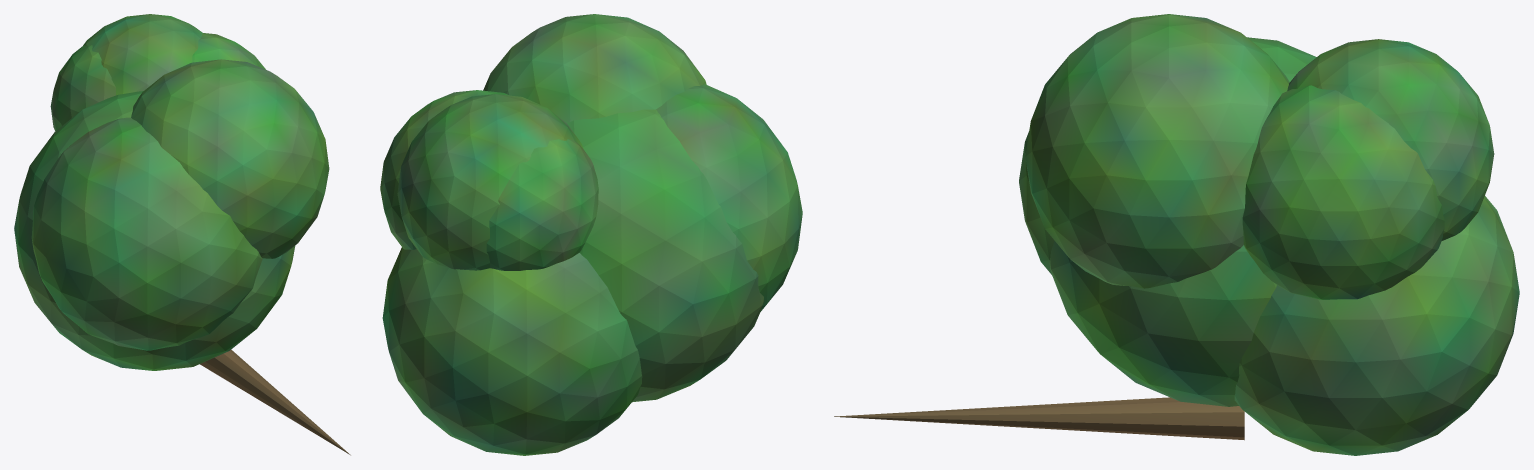
File: tree_4.glb
3 renders of one model, left to right at view 1: azimuth 30°, elevation 25°; view 2: azimuth 150°, elevation 25°; view 3: azimuth 270°, elevation 25°, orthographic. The views are drawn at different scales.
Visible parts, largest first — view 1: world; view 2: world; view 3: world.
Boxes of the visible parts, box(x1,y1,x2,y2) form: world: box(14, 14, 350, 455); world: box(380, 14, 802, 455); world: box(834, 14, 1519, 455).
Size of the model in its own units: 4.42 by 4.7 by 7.
